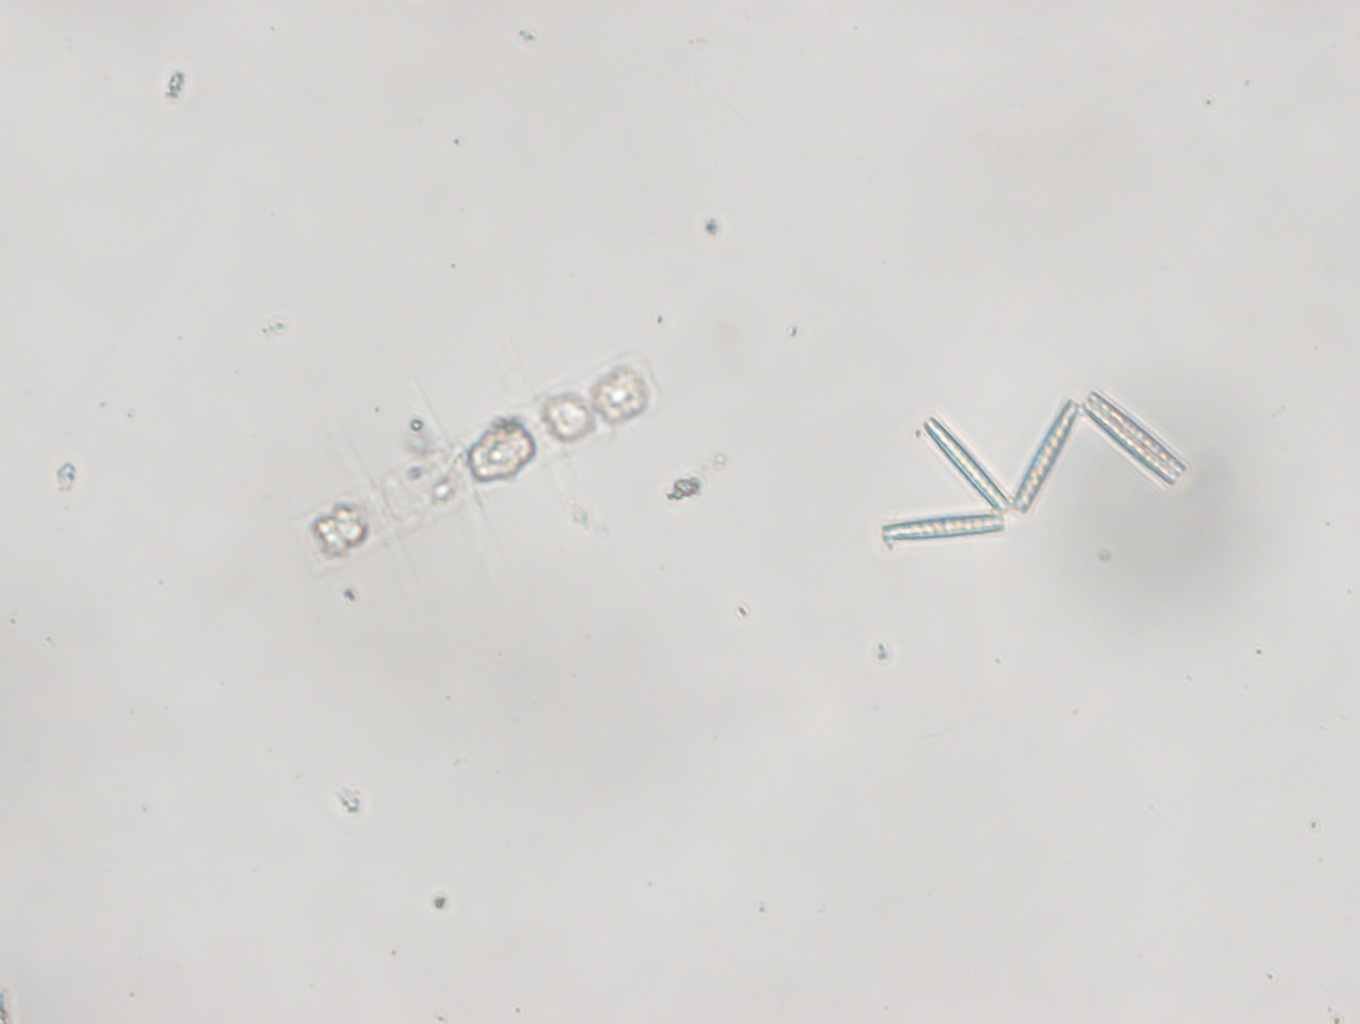chaetoceros: (260, 336, 665, 572)
thalassionema nitzschioides: (873, 389, 1196, 541)
